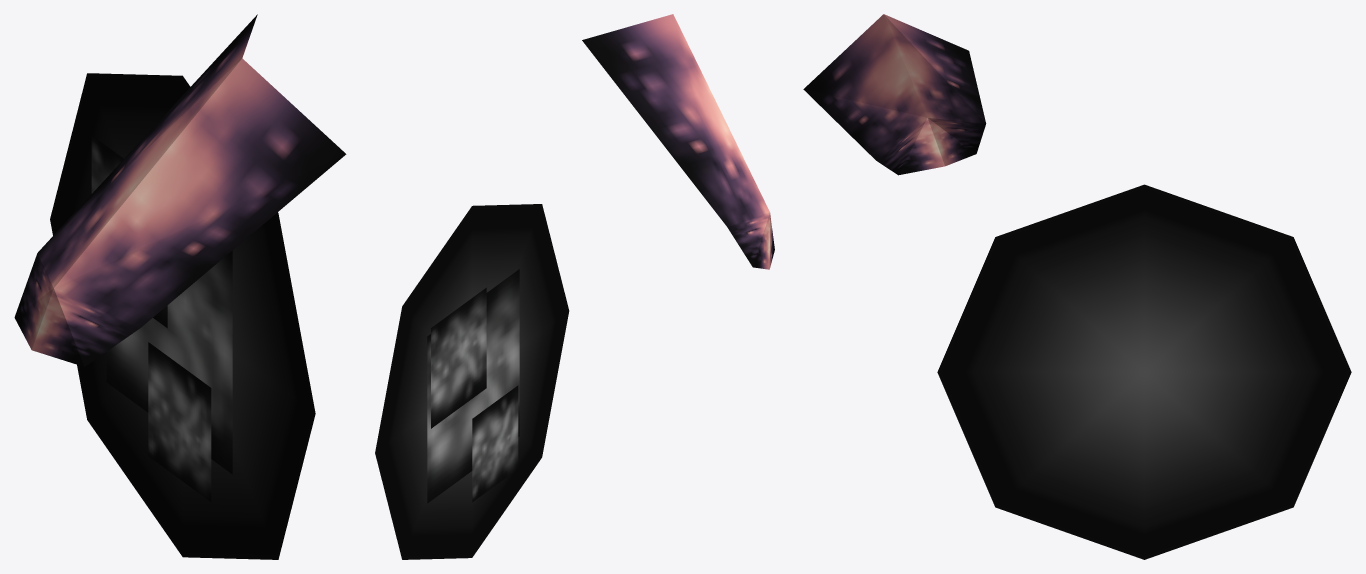
3 views of the same model, side by side, from view 1: azimuth 30°, elevation 25°; view 2: azimuth 150°, elevation 25°; view 3: azimuth 270°, elevation 25° (orthographic). The views are drawn at different scales.
Visible parts, largest first — view 1: B_0055_2b_0; view 2: B_0055_2b_0; view 3: B_0055_2b_0.
Part boxes in pixels (x1,y1,x2,y2): B_0055_2b_0: (14, 14, 346, 559); B_0055_2b_0: (375, 14, 774, 559); B_0055_2b_0: (803, 14, 1351, 559).
Bounding box in the file's own units: 0.567 × 1.26 × 1.24.
1 material, 1 textured.
